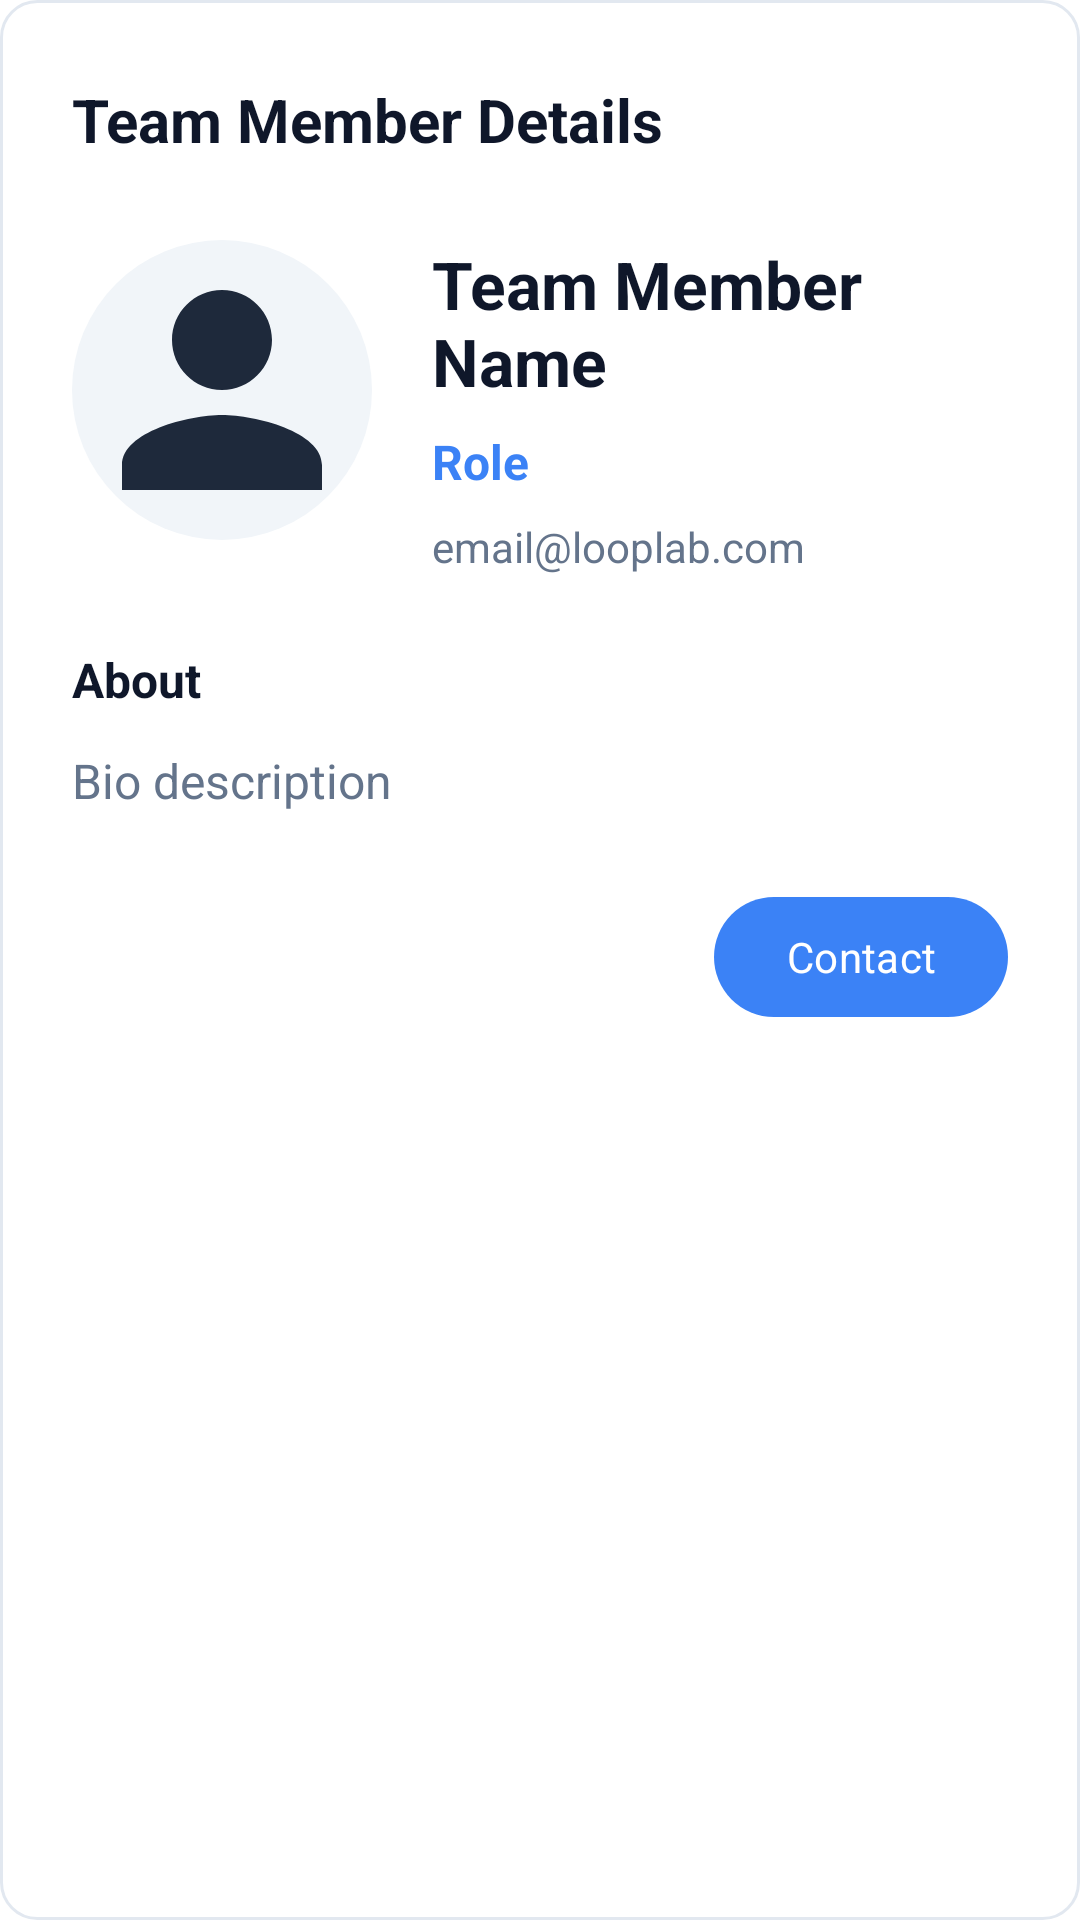

Named icons in this screenshot (1080px x 1920px) and their centers, [x,y]:
profile: [222,390]
